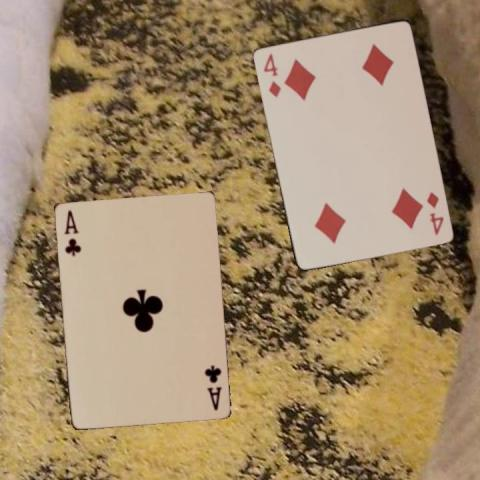4d: (260, 50, 282, 98), (423, 189, 445, 236)
Ac: (61, 208, 82, 258), (202, 362, 223, 411)
